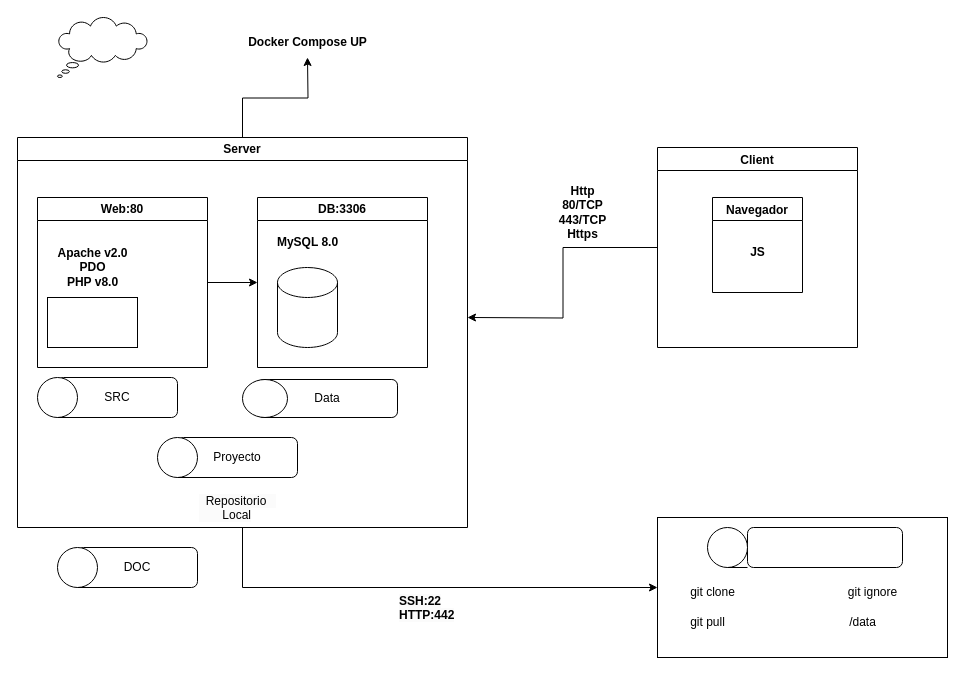
The diagram is 965 pixels wide and 675 high, and some of its shapes have lost their labels. The shapes that lost their labels are listed below. From the top down, each one's centre as x and y in pixels, then its label:
At point (102, 47): "Cloud: GCP".
At point (92, 322): "index.html".
At point (307, 307): "DB Guerra".
At point (824, 547): "github.com/proyectoguerra".
